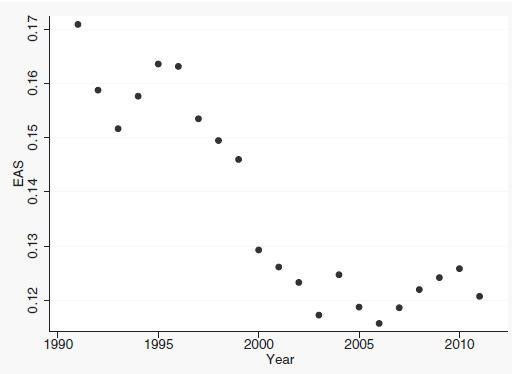axis: (41, 327, 512, 341), (42, 13, 55, 336)
point: (91, 84, 105, 96), (71, 18, 85, 29), (153, 57, 165, 69), (171, 61, 184, 72), (133, 90, 145, 101), (193, 113, 205, 124), (112, 123, 123, 134), (234, 154, 244, 165), (294, 277, 304, 288), (374, 318, 385, 328), (254, 245, 264, 255), (274, 262, 284, 272), (314, 311, 325, 320), (213, 136, 223, 145), (335, 270, 344, 280), (395, 303, 404, 313), (475, 292, 485, 301), (434, 273, 445, 281), (355, 303, 364, 312), (415, 285, 424, 294), (455, 264, 464, 273)
